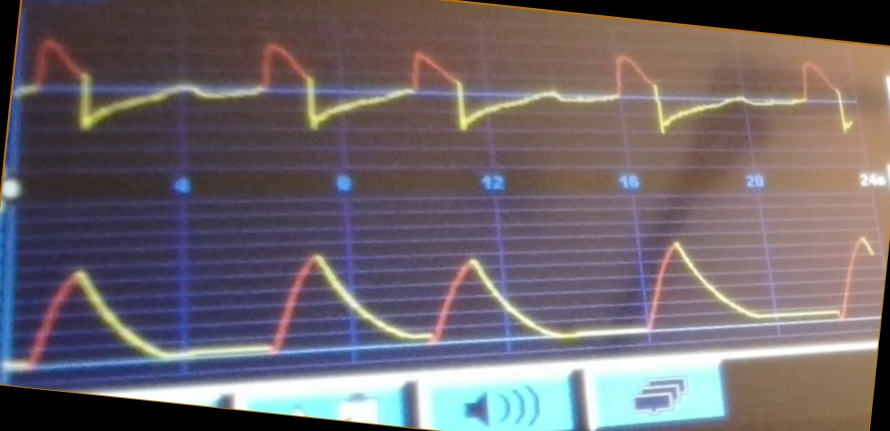Ineffective_effort Flow: (24, 35, 857, 141)
Ineffective_effort Volume: (15, 231, 877, 363)
